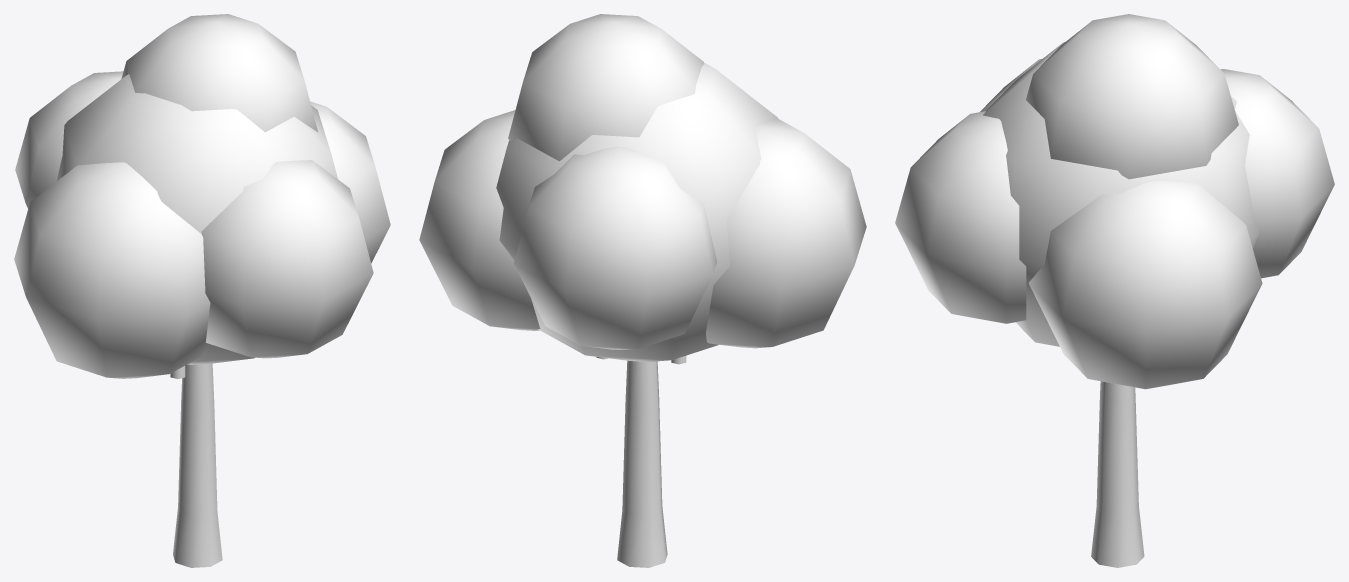
Rendered from neem_tree.glb.
3 renders of one model, left to right at view 1: azimuth 30°, elevation 25°; view 2: azimuth 150°, elevation 25°; view 3: azimuth 270°, elevation 25°, orthographic. The views are drawn at different scales.
Visible parts, largest first — view 1: NeemTree; view 2: NeemTree; view 3: NeemTree.
Boxes of the visible parts, left/top/right/bottom form: NeemTree: left=14, top=14, right=390, bottom=567; NeemTree: left=419, top=14, right=866, bottom=567; NeemTree: left=895, top=14, right=1334, bottom=567.
Size of the model in its own units: 4.15 by 5.4 by 3.95.
1 material, 1 textured.
